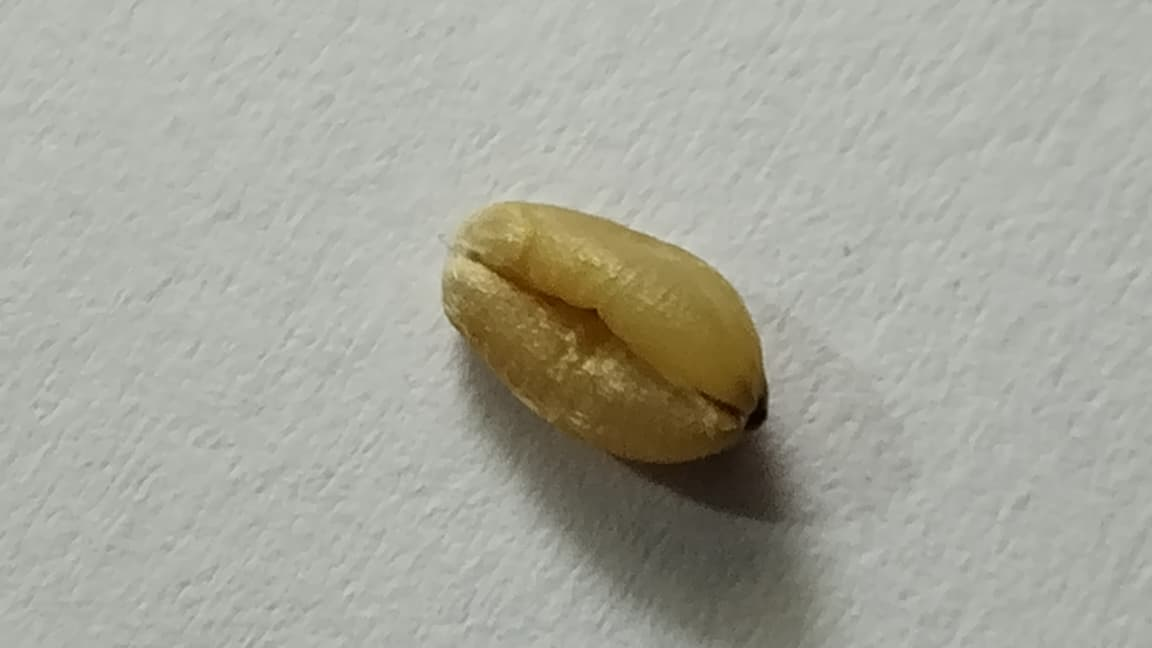healthy: (442, 201, 767, 463)
